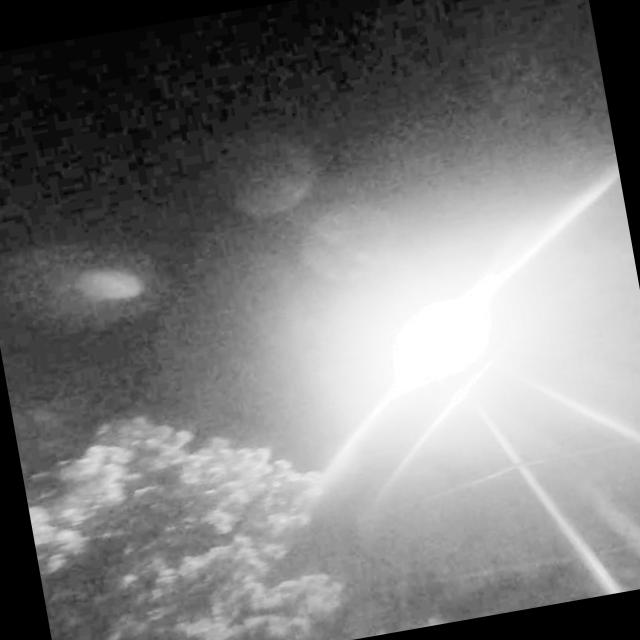Light: (362, 248, 535, 383), (422, 358, 514, 426)
